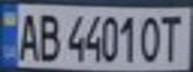0: (100, 11, 121, 63)
1: (118, 12, 139, 63)
4: (63, 10, 84, 62), (84, 10, 103, 62)
A: (12, 8, 42, 62)
B: (33, 9, 63, 62)
O: (136, 12, 166, 63)
T: (157, 11, 187, 63)
